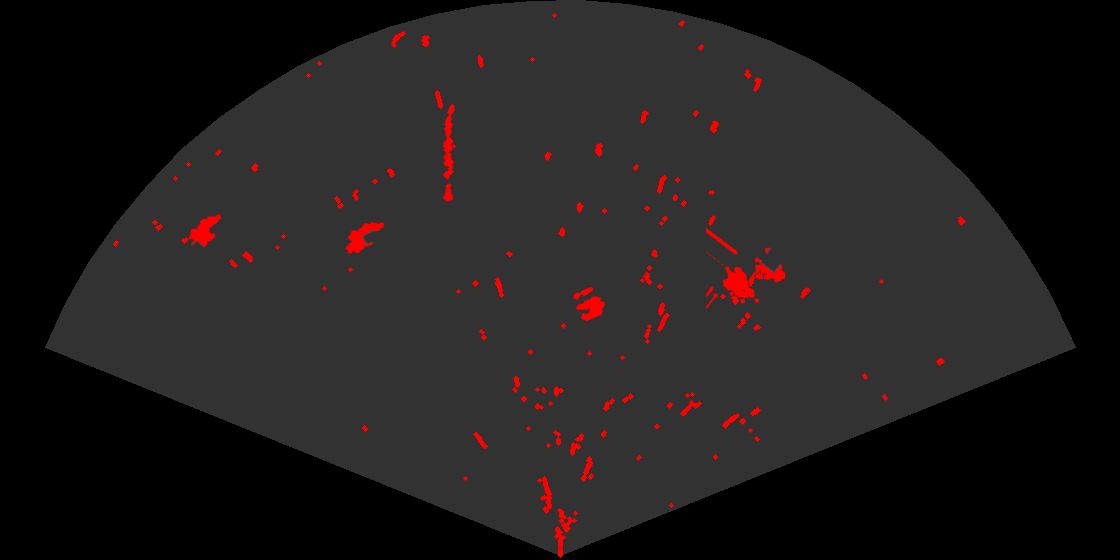AUV: (344, 220, 386, 255), (187, 213, 223, 249)
ball: (571, 285, 607, 323)
cage: (706, 226, 787, 311)
chain: (441, 103, 456, 203)
